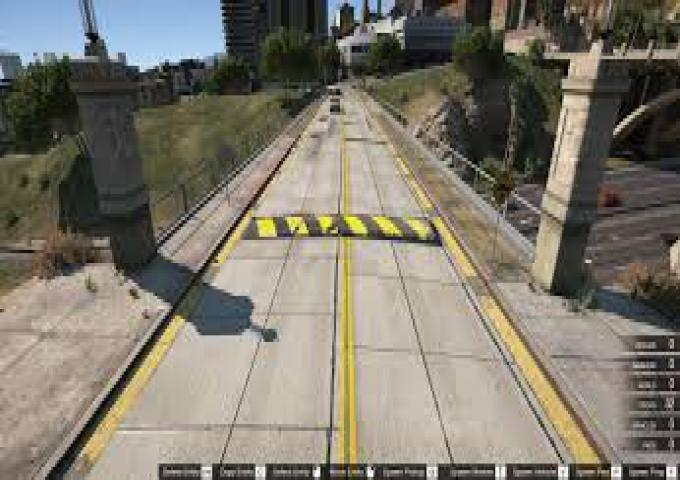speedbreaker: (242, 207, 444, 250)
